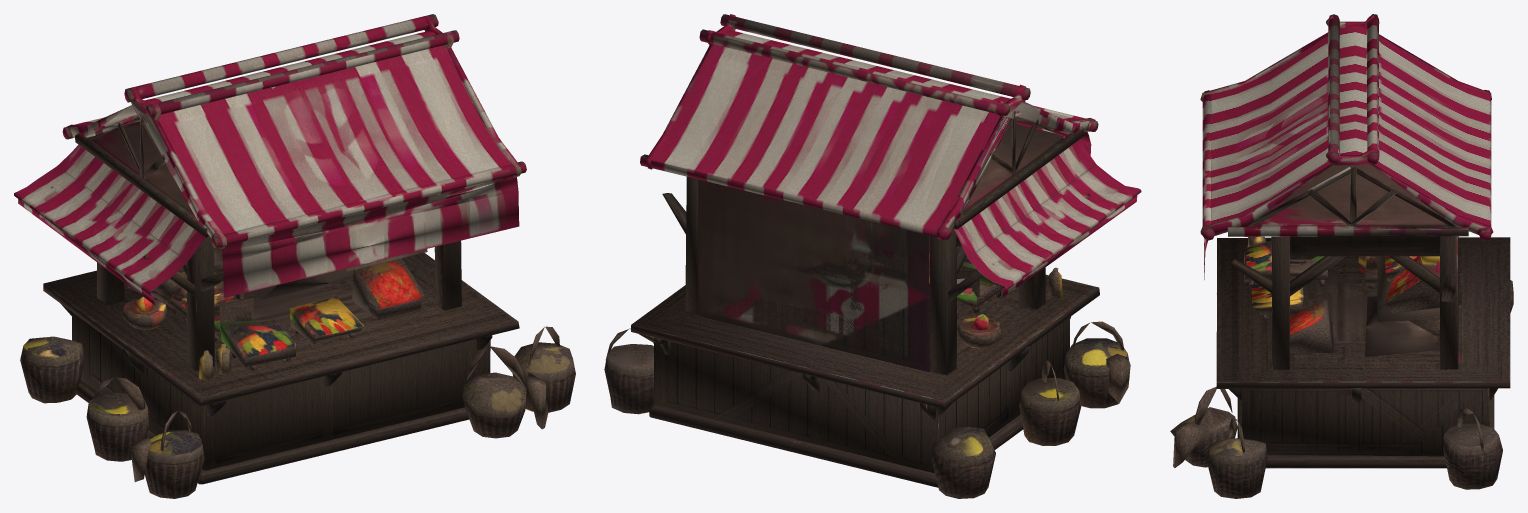
The model's file is market_stall.glb.
3 renders of one model, left to right at view 1: azimuth 30°, elevation 25°; view 2: azimuth 150°, elevation 25°; view 3: azimuth 270°, elevation 25°, orthographic. The views are drawn at different scales.
Size of the model in its own units: 0.9551 by 0.7305 by 0.71.
Materials: 1 (1 with a texture image).
